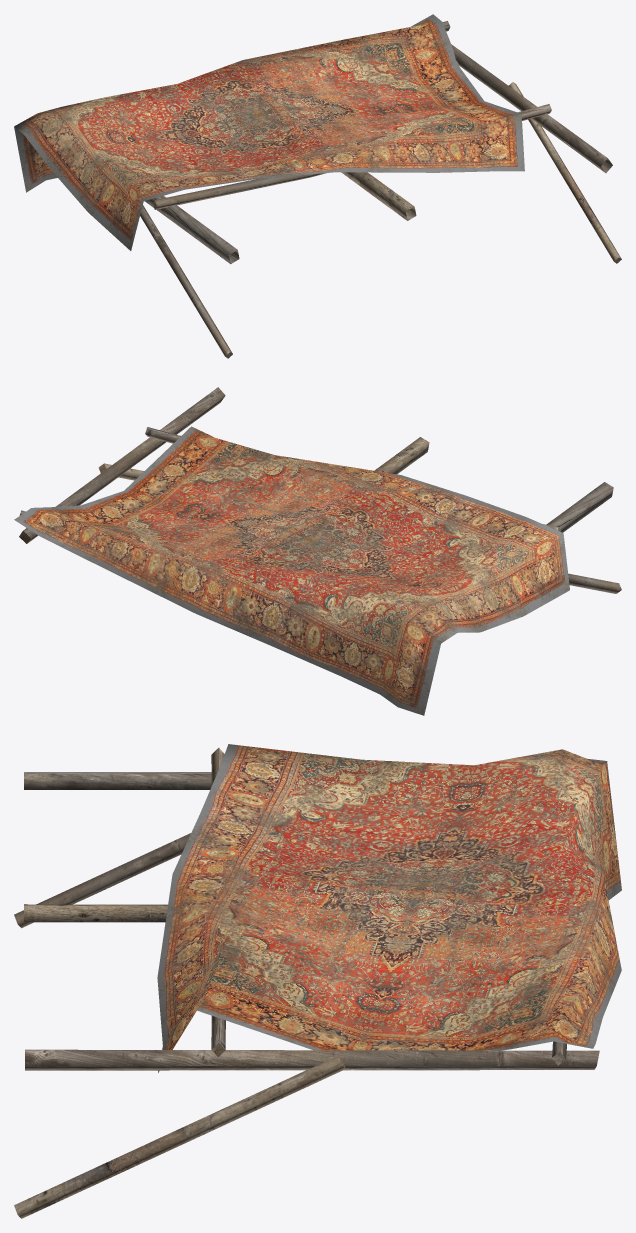
The model's file is Fabric4_LOD1.fbx.
3 views of the same model, one above another, from view 1: azimuth 30°, elevation 25°; view 2: azimuth 150°, elevation 25°; view 3: azimuth 270°, elevation 25° (orthographic). The views are drawn at different scales.
Parts seen in each view (by area): view 1: polySurface110; view 2: polySurface110; view 3: polySurface110.
Part boxes in pixels (x1,y1,x2,y2): polySurface110: [14, 14, 621, 358]; polySurface110: [14, 387, 621, 715]; polySurface110: [14, 744, 621, 1218].
Size of the model in its own units: 3.24 by 0.869 by 2.64.
